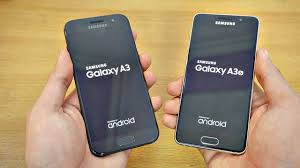samsung: (59, 14, 162, 159), (171, 11, 262, 154)
